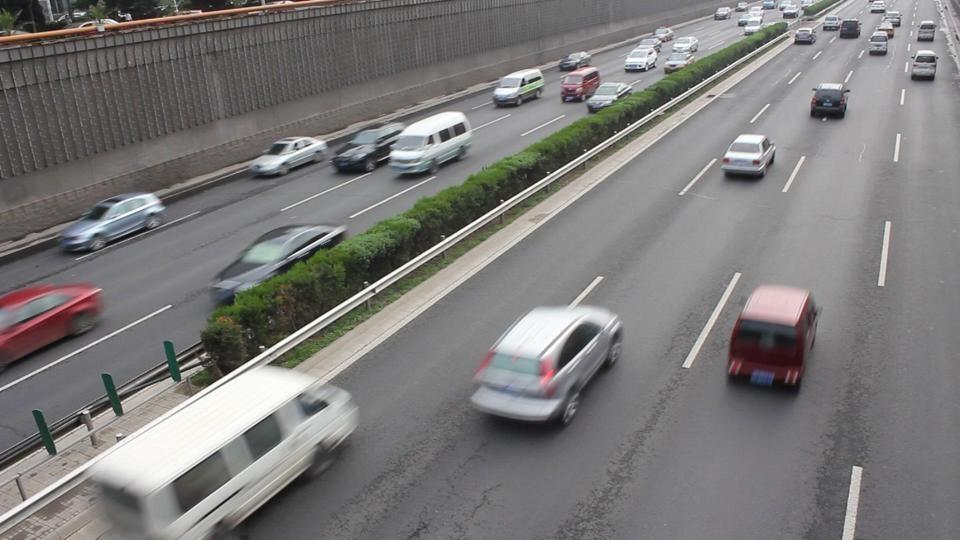car: (467, 302, 625, 428), (208, 222, 350, 303), (725, 283, 821, 390), (0, 282, 105, 370), (57, 191, 167, 255), (387, 110, 475, 176), (331, 124, 405, 174), (250, 136, 330, 179), (719, 133, 778, 179), (492, 70, 545, 108), (584, 80, 636, 113), (560, 67, 603, 103), (809, 82, 849, 120), (624, 43, 660, 73), (908, 49, 938, 82), (868, 30, 891, 55), (916, 20, 937, 42), (839, 18, 861, 38), (793, 28, 815, 45), (824, 15, 841, 30)
